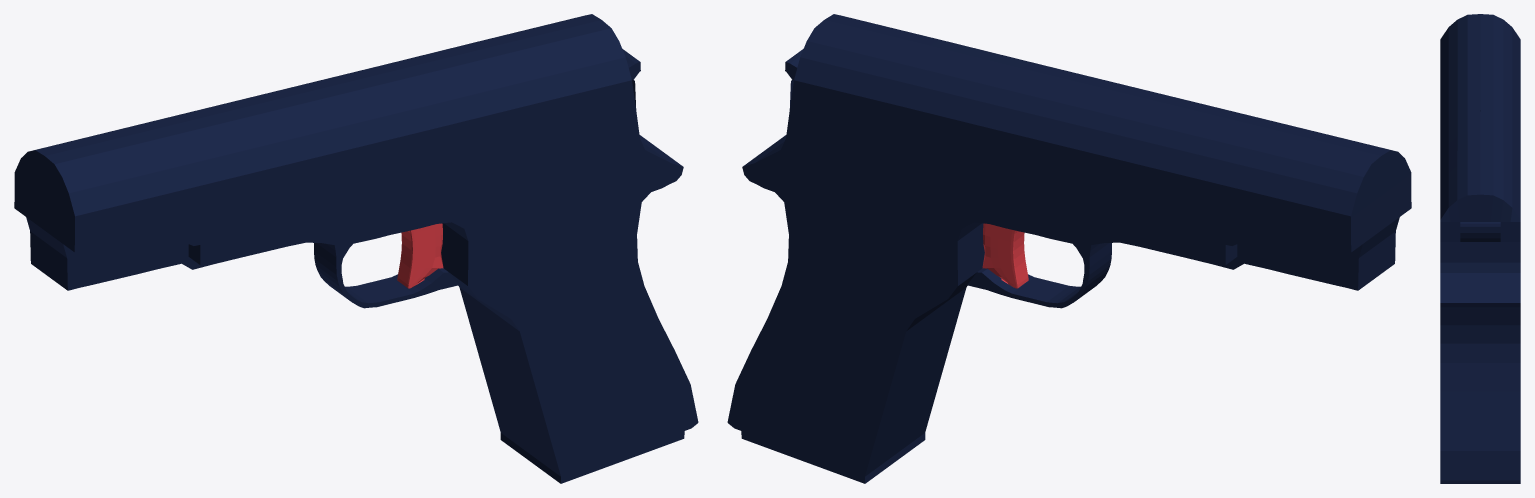
Rendered from PistolModelRemade.fbx.
3 renders of one model, left to right at view 1: azimuth 30°, elevation 25°; view 2: azimuth 150°, elevation 25°; view 3: azimuth 270°, elevation 25°, orthographic. The views are drawn at different scales.
Parts seen in each view (by area): view 1: Plane, trigger; view 2: Plane, trigger; view 3: Plane.
Part boxes in pixels (x1,y1,x2,y2): Plane: (14,14,698,483); trigger: (397,223,443,288); Plane: (727,14,1411,483); trigger: (982,223,1028,288); Plane: (1440,14,1520,483).
Size of the model in its own units: 37.59 by 146 by 224.
